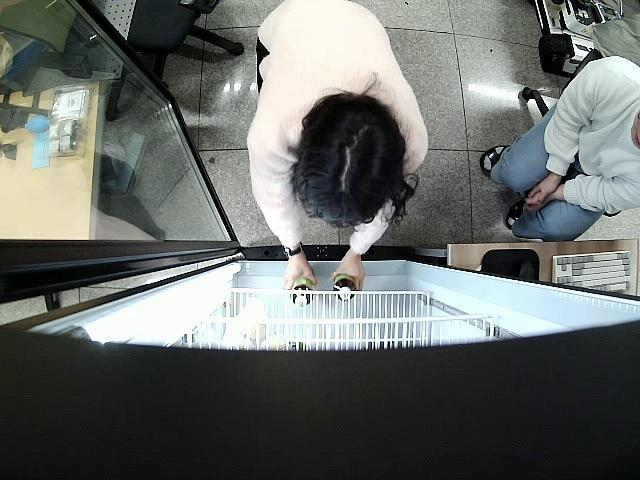19_17cha: (291, 272, 318, 307), (331, 274, 358, 306)
